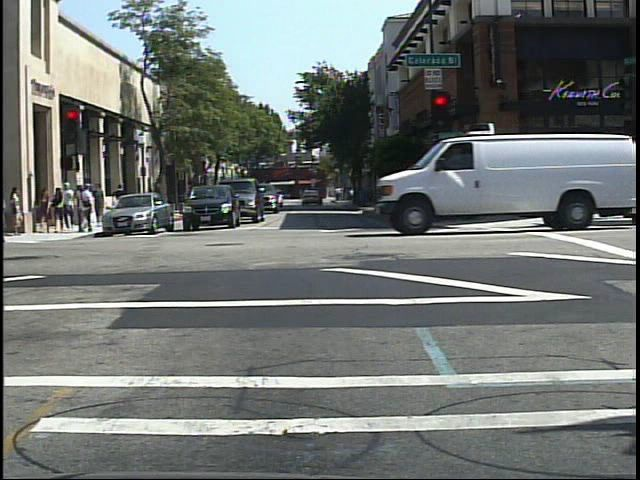person: (76, 180, 97, 235)
